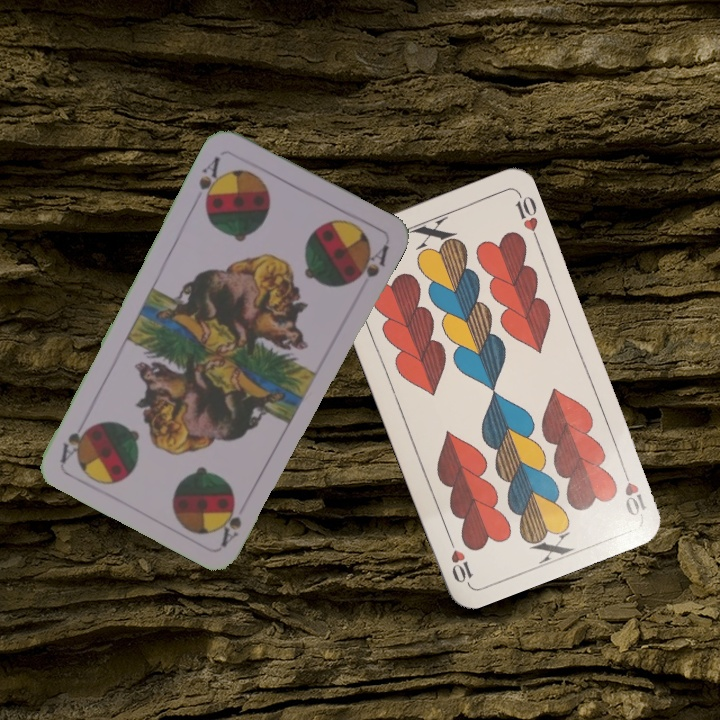H10: (617, 461, 649, 519)
SA: (194, 152, 226, 210), (217, 498, 244, 549)
